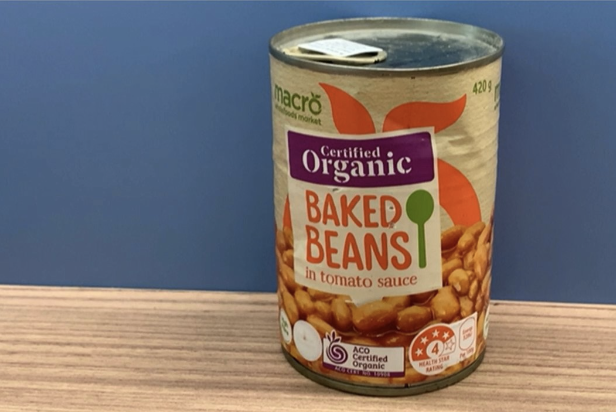Baked beans_450g: (283, 86, 468, 362)
